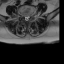CCS_normal: (26, 14, 27, 23)
LFS_stenosis: (29, 12, 32, 19)
LLS_normal: (27, 14, 29, 21)
RFS_severe_stenosis: (22, 13, 24, 18)
RLS_normal: (24, 14, 26, 21)
